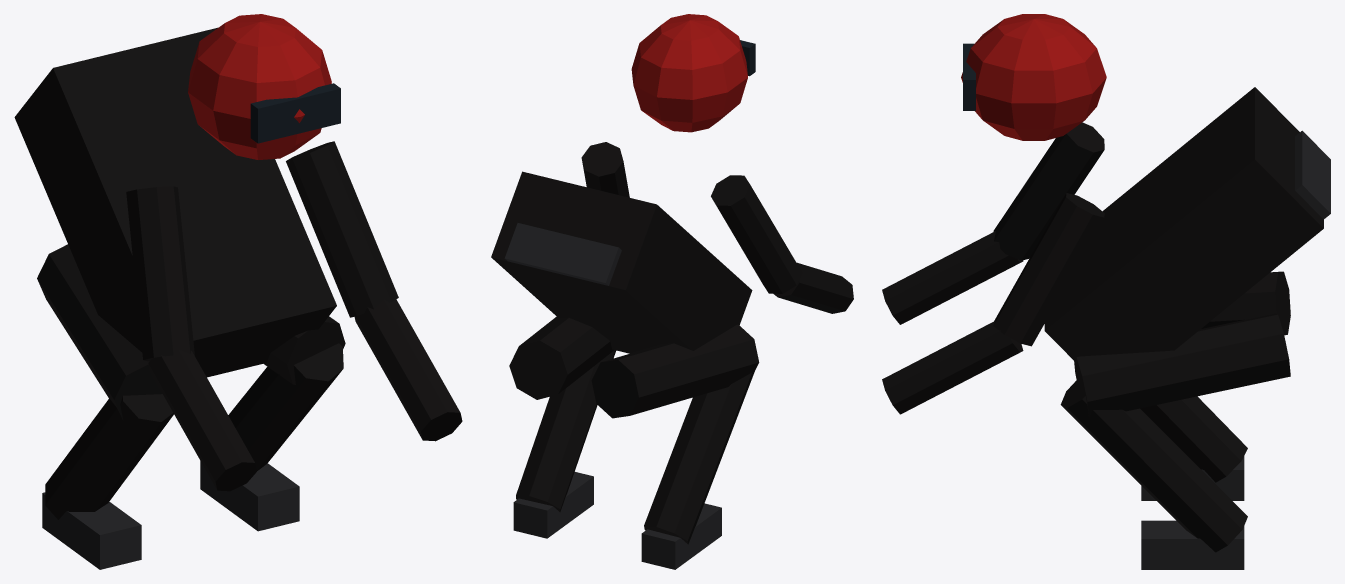
The model's file is SM_rider_moto.fbx.
3 renders of one model, left to right at view 1: azimuth 30°, elevation 25°; view 2: azimuth 150°, elevation 25°; view 3: azimuth 270°, elevation 25°, orthographic. The views are drawn at different scales.
Parts seen in each view (by area): view 1: SM_rider_moto; view 2: SM_rider_moto; view 3: SM_rider_moto.
Boxes of the visible parts, box(x1,y1,x2,y2) form: SM_rider_moto: box(14, 14, 462, 569); SM_rider_moto: box(491, 14, 853, 569); SM_rider_moto: box(882, 14, 1330, 569).
Size of the model in its own units: 0.5982 by 1.3 by 1.05.
